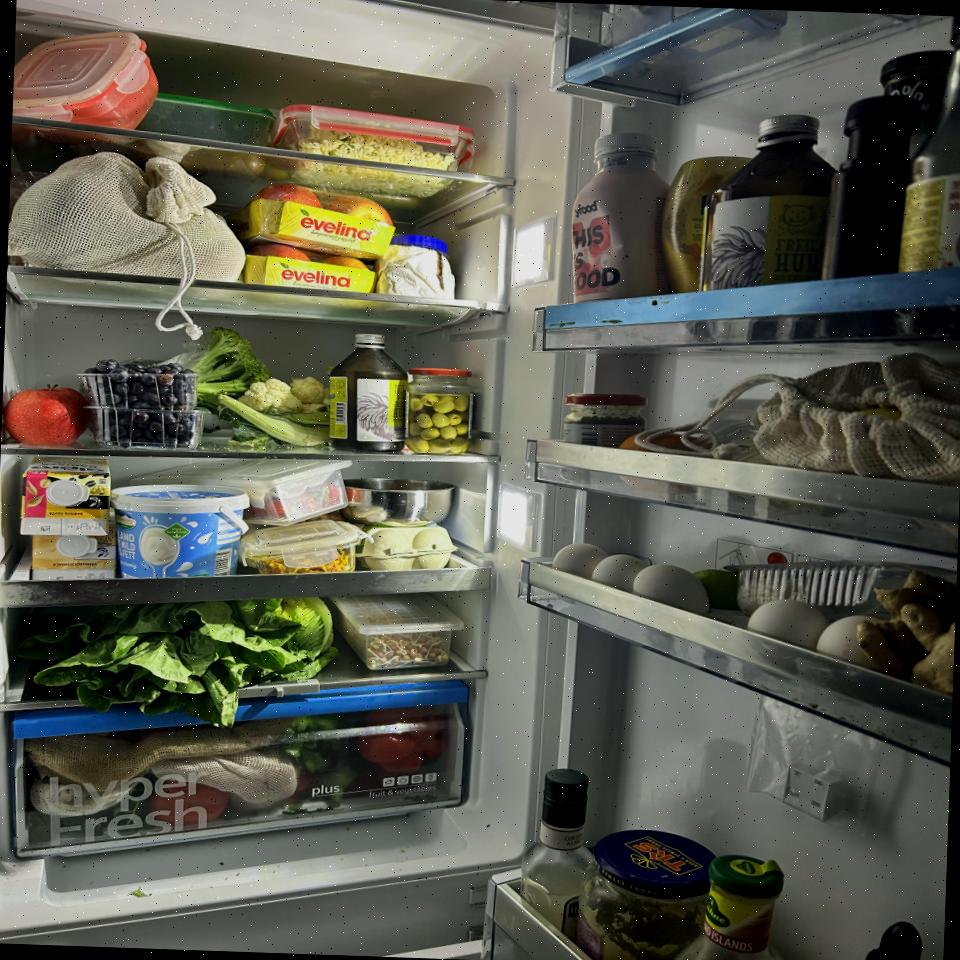Huevos: (550, 542, 713, 615), (746, 598, 888, 671), (353, 522, 461, 575)
Lechuga/Endivia: (13, 586, 342, 732)
Manzana: (3, 384, 90, 447), (324, 194, 397, 226), (253, 182, 324, 208), (252, 243, 314, 262), (323, 256, 369, 270)
Yogur: (103, 482, 251, 584)
